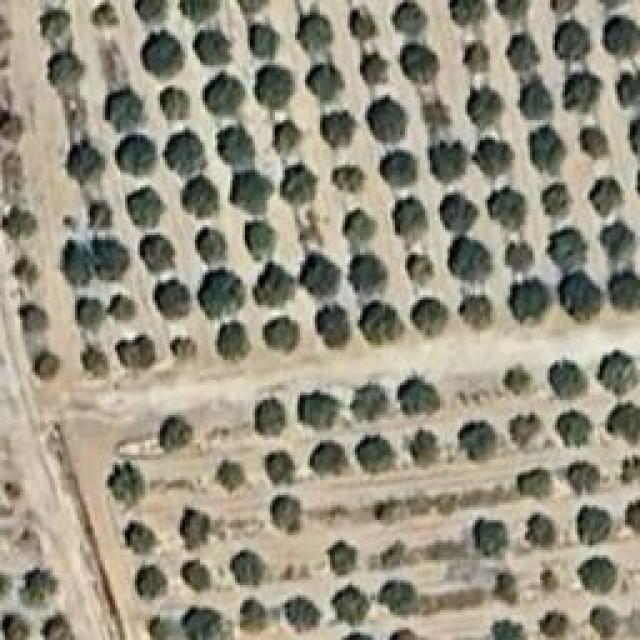Tree: (458, 415, 508, 462), (150, 275, 199, 322), (223, 547, 273, 593), (100, 461, 152, 504), (470, 513, 514, 563), (205, 68, 248, 119), (142, 30, 188, 77), (450, 235, 495, 283), (220, 125, 265, 172), (253, 260, 300, 305), (64, 140, 105, 191), (30, 3, 77, 47), (120, 182, 167, 226), (130, 560, 174, 607), (113, 133, 160, 176), (463, 88, 506, 135), (545, 225, 592, 268), (600, 350, 640, 400), (398, 375, 448, 414), (295, 390, 340, 433), (280, 595, 323, 640), (178, 178, 224, 220), (230, 165, 276, 207), (575, 558, 622, 599), (90, 235, 129, 284), (555, 17, 597, 62), (255, 310, 301, 351), (18, 567, 59, 613), (573, 505, 620, 545), (378, 578, 418, 625), (325, 580, 365, 626), (48, 50, 86, 98), (135, 235, 183, 273), (158, 130, 206, 168), (205, 273, 249, 314), (100, 93, 145, 133), (400, 40, 439, 86), (563, 270, 600, 318), (408, 293, 449, 336), (360, 300, 405, 339), (350, 385, 396, 423), (315, 295, 353, 341), (123, 515, 160, 562), (250, 65, 292, 106), (303, 250, 344, 292), (118, 335, 160, 376), (363, 90, 402, 134), (250, 398, 291, 439), (550, 360, 591, 401), (323, 538, 362, 580), (558, 408, 596, 451), (535, 122, 570, 168), (579, 120, 614, 166), (423, 135, 463, 175), (503, 40, 543, 80), (265, 495, 306, 534), (238, 220, 279, 259), (510, 280, 553, 317), (475, 142, 520, 177), (607, 400, 640, 447), (182, 607, 229, 640), (300, 10, 336, 53), (360, 438, 401, 475), (380, 150, 415, 193), (57, 245, 89, 292), (443, 0, 491, 31), (178, 505, 216, 544), (410, 430, 446, 471), (508, 413, 544, 454), (73, 300, 108, 342), (487, 570, 521, 613), (215, 460, 259, 493), (93, 3, 131, 40), (265, 450, 303, 487), (345, 3, 381, 42), (503, 230, 539, 269), (163, 80, 198, 120), (178, 560, 215, 597), (240, 603, 277, 640), (588, 178, 625, 215), (313, 440, 353, 474), (600, 218, 635, 256), (220, 323, 255, 360), (158, 415, 193, 452), (568, 73, 605, 108), (27, 345, 61, 383), (308, 63, 342, 101), (537, 178, 571, 216), (563, 460, 600, 494), (522, 468, 556, 505), (353, 250, 387, 287), (340, 210, 377, 244), (372, 493, 410, 526), (173, 335, 209, 369), (445, 193, 481, 227), (390, 0, 428, 32), (540, 610, 580, 640), (408, 248, 438, 288), (610, 268, 640, 308), (422, 93, 454, 130), (250, 17, 276, 62), (460, 43, 490, 82), (282, 167, 316, 201), (392, 193, 426, 227), (500, 195, 534, 229), (322, 113, 355, 148), (463, 297, 498, 330), (17, 300, 49, 336), (0, 203, 31, 240), (40, 610, 78, 639), (590, 608, 624, 640), (83, 345, 111, 383), (608, 18, 636, 56), (130, 0, 174, 24), (382, 542, 414, 575), (0, 610, 35, 640), (275, 120, 303, 157), (143, 613, 181, 640), (90, 198, 119, 233), (178, 0, 222, 23), (200, 28, 228, 64), (110, 293, 142, 324), (525, 80, 551, 118), (0, 110, 28, 145), (504, 365, 532, 400), (12, 255, 46, 283), (358, 50, 384, 86), (195, 227, 223, 260), (485, 617, 525, 640), (528, 512, 555, 546), (333, 160, 363, 190), (535, 567, 559, 599), (410, 488, 433, 521), (615, 70, 640, 100), (622, 458, 640, 498), (435, 491, 461, 518), (0, 475, 25, 503), (505, 0, 534, 21), (624, 498, 640, 535), (391, 624, 427, 640), (232, 0, 265, 9), (548, 0, 574, 11)
